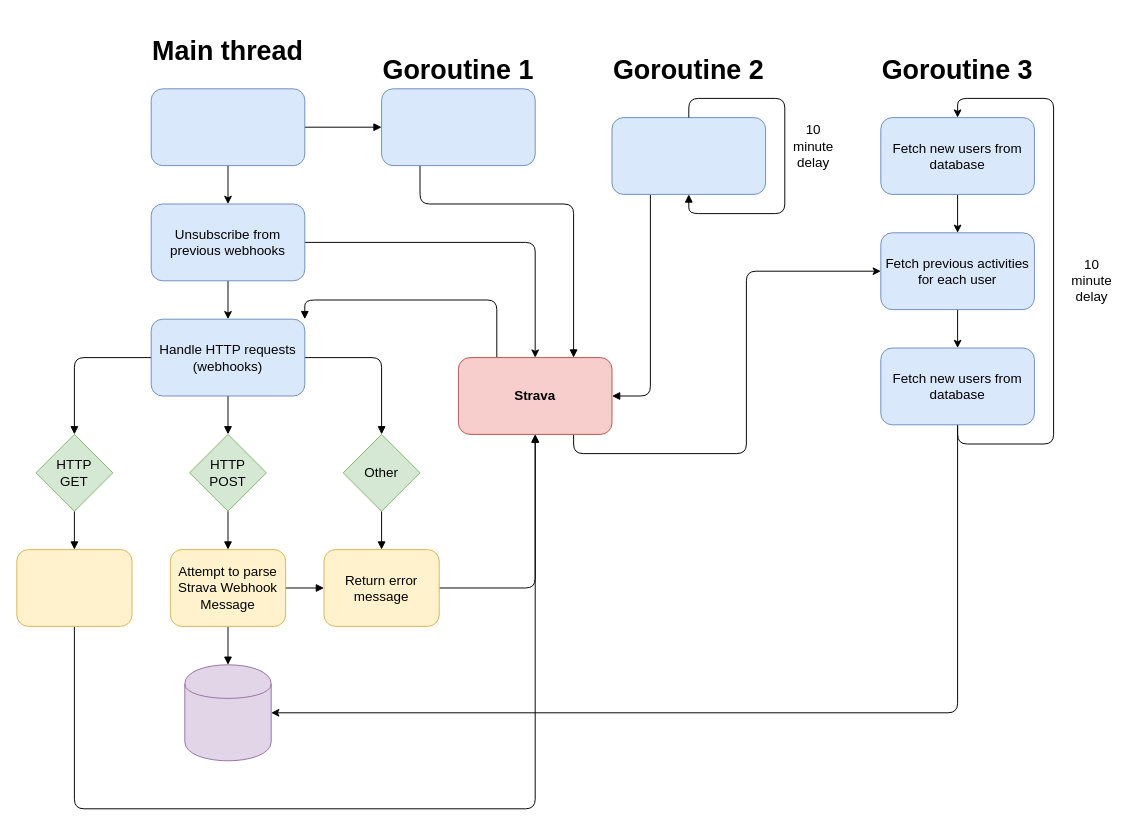
Image size: 1128x833. Some labels were removed from this diagram. The centre of each missing label's shape, as x and y in pixels:
"Attempt to complete Strava subscription challenge" belongs at (x=74, y=587).
"Database" belongs at (x=227, y=712).
"Parse configuration" belongs at (x=227, y=127).
"Refresh expiring user subscriptions" belongs at (x=688, y=155).
"Subscribe to webhook service" belongs at (x=458, y=127).
